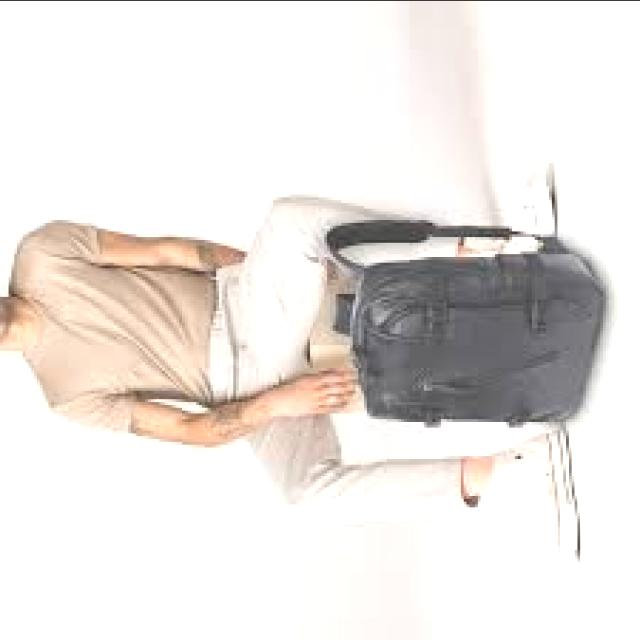backpack: (322, 221, 604, 431)
